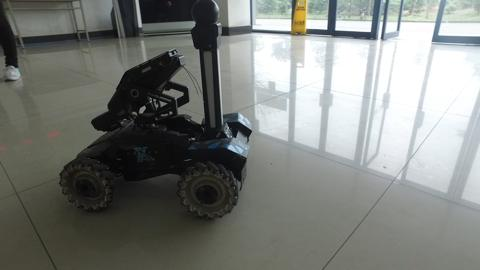chariot: (57, 1, 254, 221)
